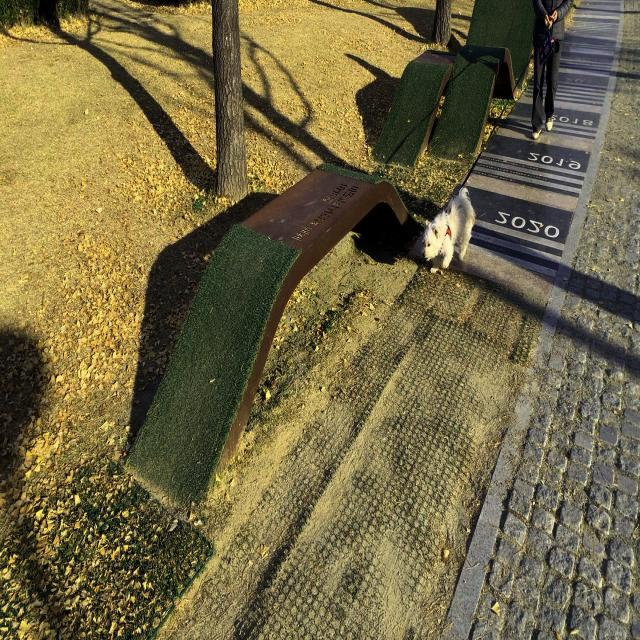Leashed_Dog: (420, 36, 545, 277)
